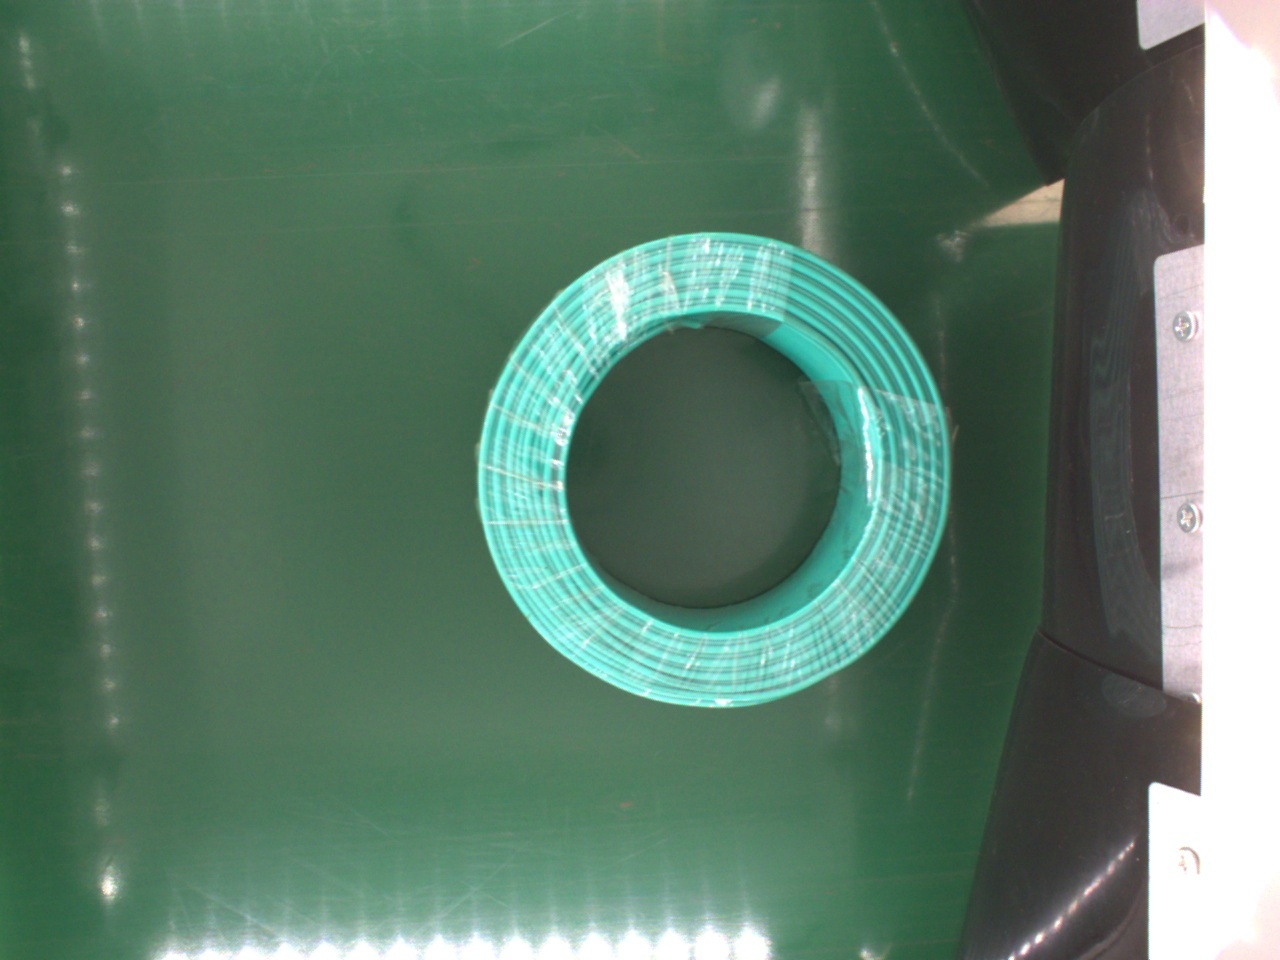green: (473, 234, 952, 711)
